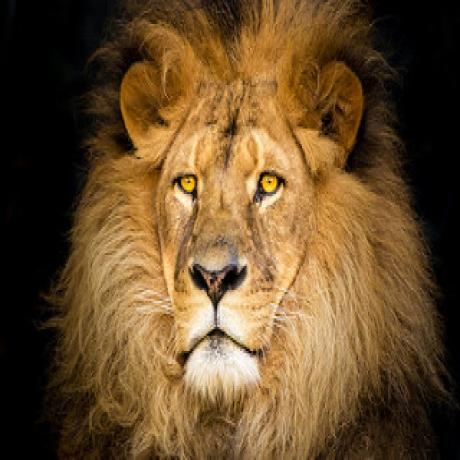Lion: (38, 0, 446, 460)
